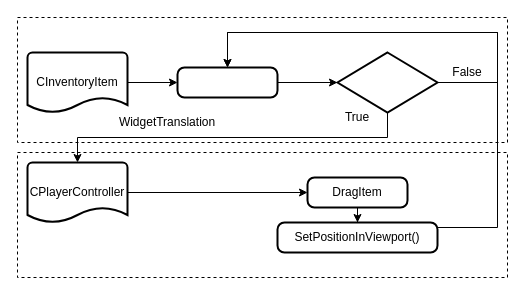
The diagram is 525 pixels wide and 295 high, and some of its shapes have lost their labels. The shapes that lost their labels are listed below. From the top down, each one's centre as x and y in pixels, then its label:
pixel 227 82: NativeTick()
pixel 387 82: bPicked?
